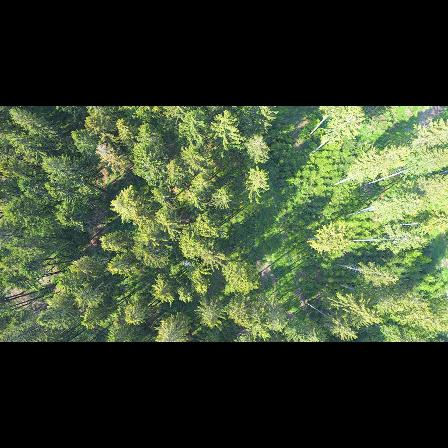Sick: (93, 140, 114, 161)
